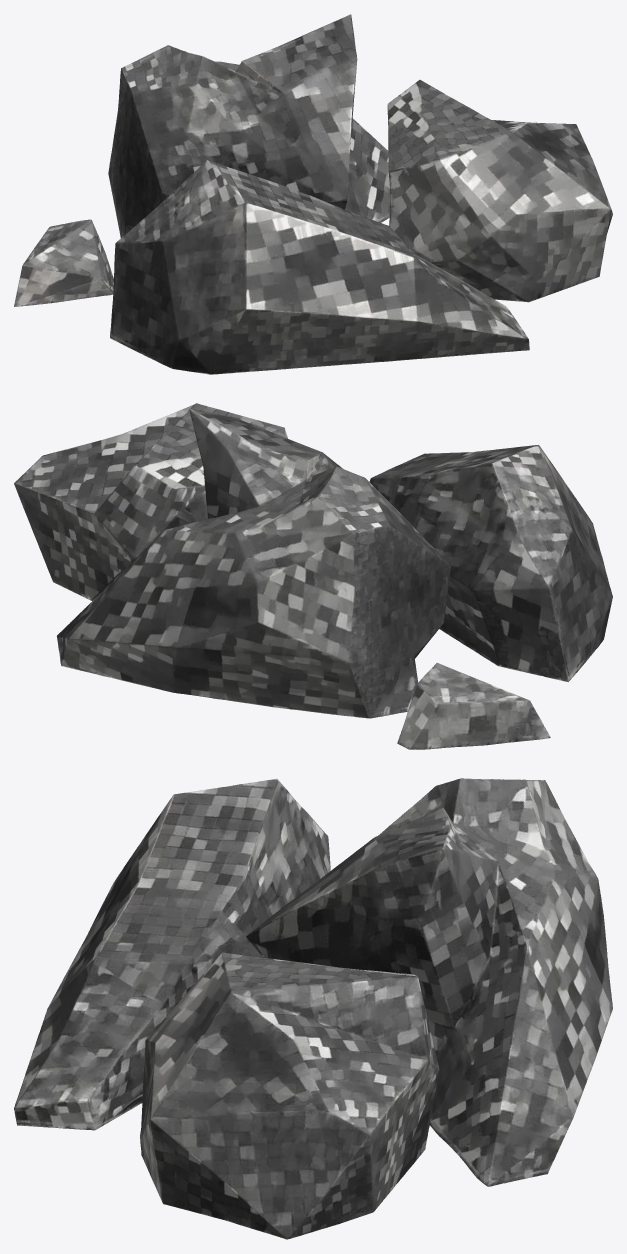
Rendered from item_scrap.glb.
The picture shows the model from 3 angles, top to bottom: view 1: azimuth 30°, elevation 25°; view 2: azimuth 150°, elevation 25°; view 3: azimuth 270°, elevation 25°; orthographic projection. The views are drawn at different scales.
Bounding box in the file's own units: 1.9 × 0.7607 × 1.48.
1 material, 1 textured.
